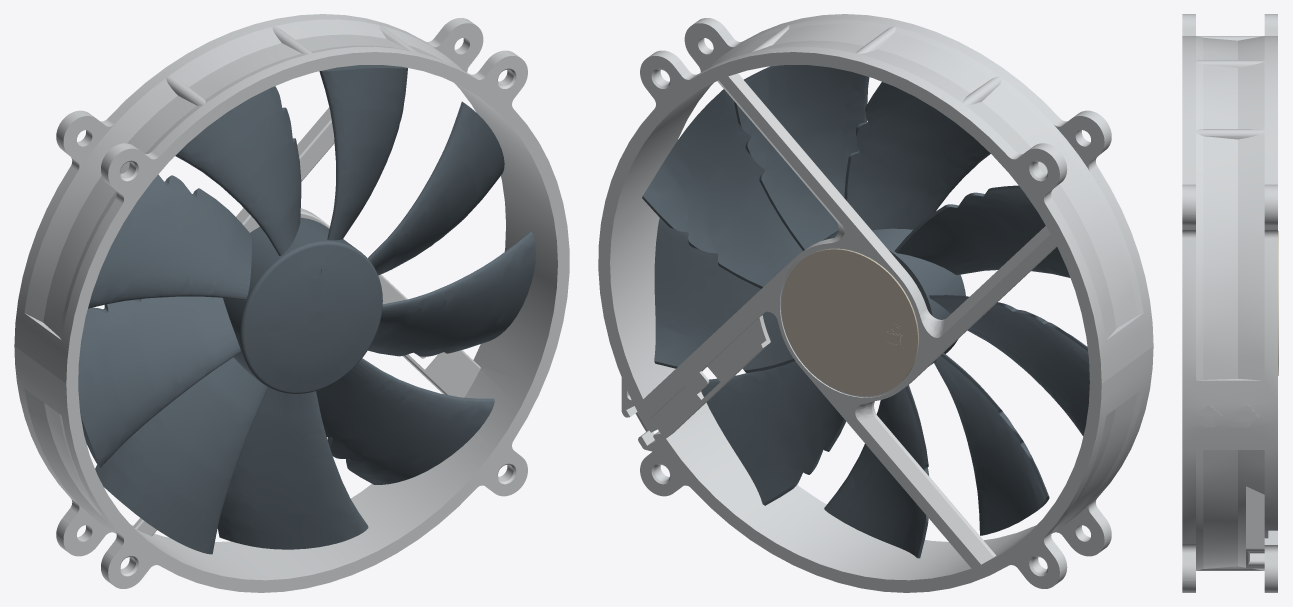
The model's file is noctua-nf-p14r-redux.glb.
3 renders of one model, left to right at view 1: azimuth 30°, elevation 25°; view 2: azimuth 150°, elevation 25°; view 3: azimuth 270°, elevation 25°, orthographic. The views are drawn at different scales.
Visible parts, largest first — view 1: NF-P14_redux_impeller-public, NF-P14r_redux_frame-public; view 2: NF-P14r_redux_frame-public, NF-P14_redux_impeller-public, Fan-Label-D38mm-Redux; view 3: NF-P14r_redux_frame-public.
Part boxes in pixels (x1,y1,x2,y2): NF-P14_redux_impeller-public: [78, 65, 535, 554]; NF-P14r_redux_frame-public: [14, 14, 569, 592]; NF-P14r_redux_frame-public: [598, 14, 1153, 592]; NF-P14_redux_impeller-public: [642, 65, 1089, 558]; Fan-Label-D38mm-Redux: [781, 248, 918, 395]; NF-P14r_redux_frame-public: [1182, 14, 1277, 592].
Bounding box in the file's own units: 0.1401 × 0.14 × 0.0252.
